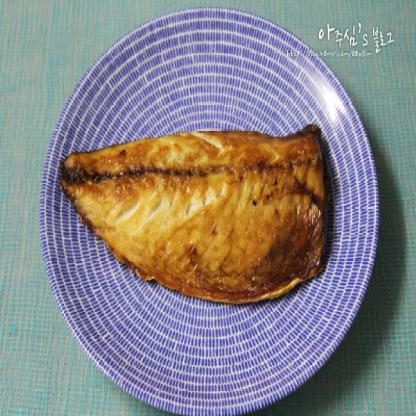Peixe: (32, 114, 346, 306)
